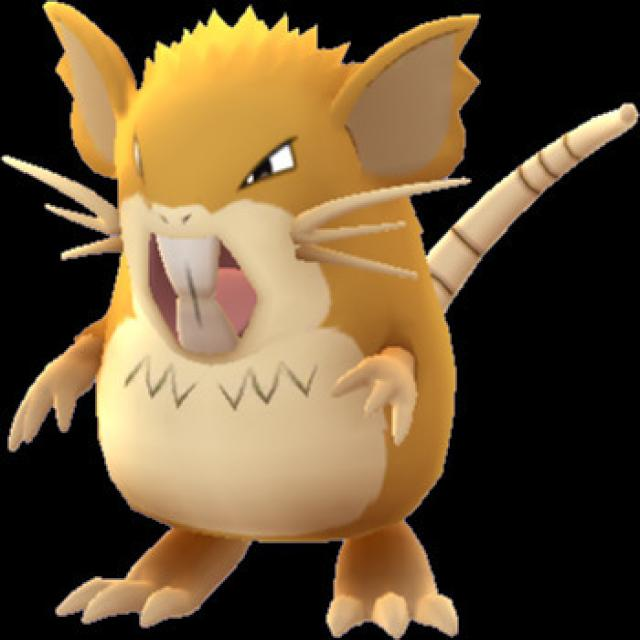Raticate: (47, 3, 460, 631)
